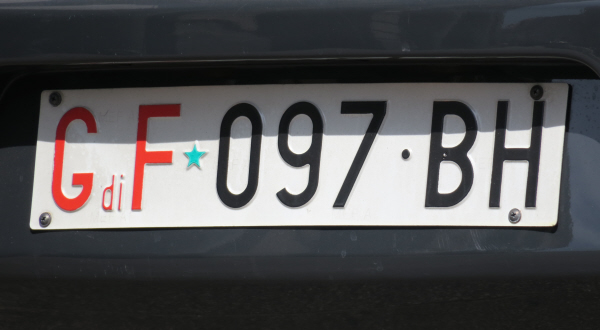license_plate: (29, 82, 569, 231)
